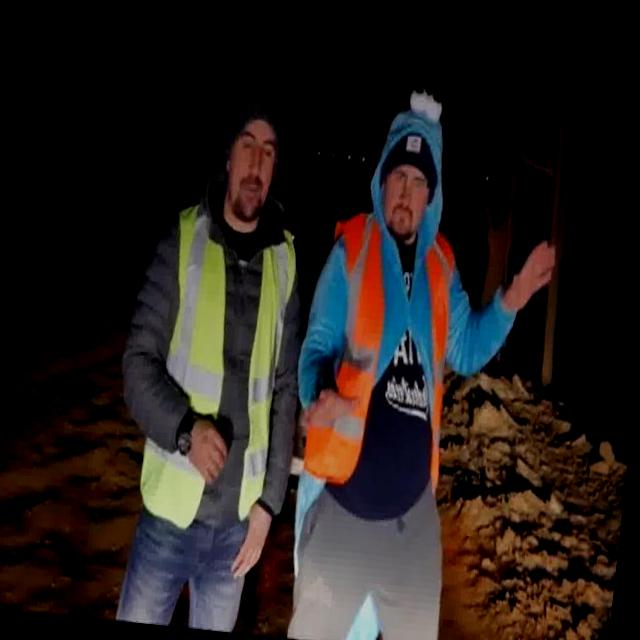no-gloves: (496, 232, 558, 316), (175, 412, 237, 489), (232, 494, 278, 581), (305, 380, 356, 440)
no-helmet: (212, 106, 290, 217)
vest: (134, 199, 303, 539), (299, 205, 466, 500)
